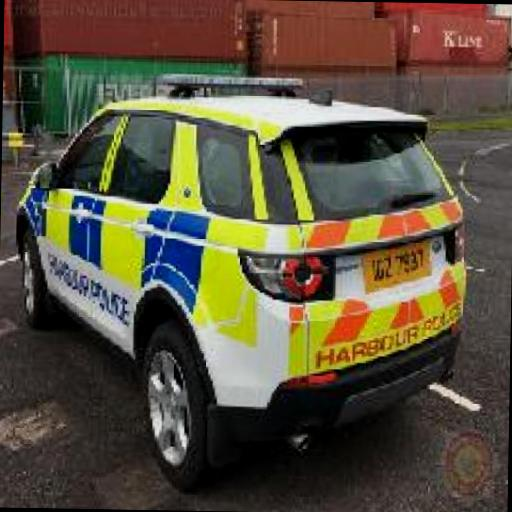Ambulance: (21, 64, 470, 484)
